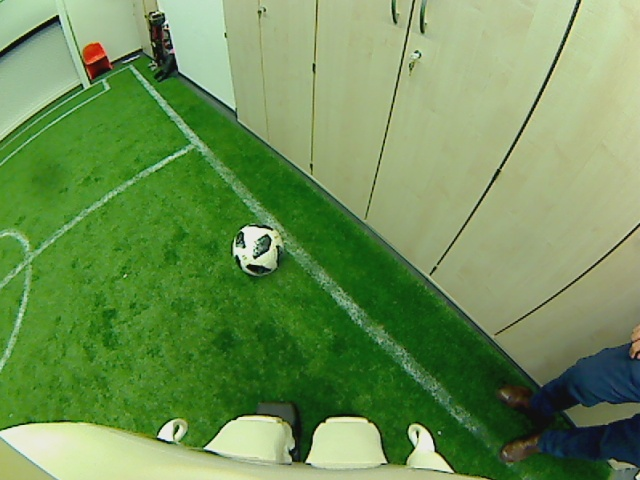ball: (229, 223, 284, 275)
